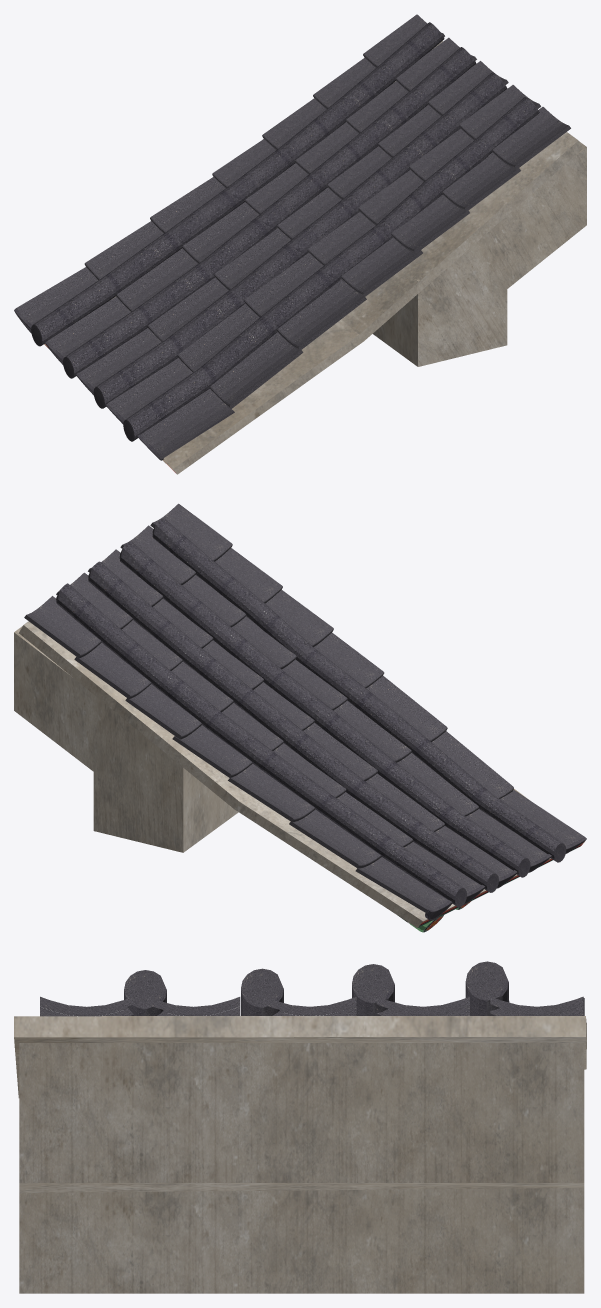
File: SM_Roof_22.fbx
3 views of the same model, one above another, from view 1: azimuth 30°, elevation 25°; view 2: azimuth 150°, elevation 25°; view 3: azimuth 270°, elevation 25° (orthographic). The views are drawn at different scales.
Parts seen in each view (by area): view 1: SM_Roof_22; view 2: SM_Roof_22; view 3: SM_Roof_22.
Boxes of the visible parts, box(x1,y1,x2,y2) form: SM_Roof_22: box(14, 14, 586, 474); SM_Roof_22: box(14, 503, 586, 932); SM_Roof_22: box(14, 961, 586, 1293).
Size of the model in its own units: 333 by 219 by 204.
Materials: 4 (4 with a texture image).
